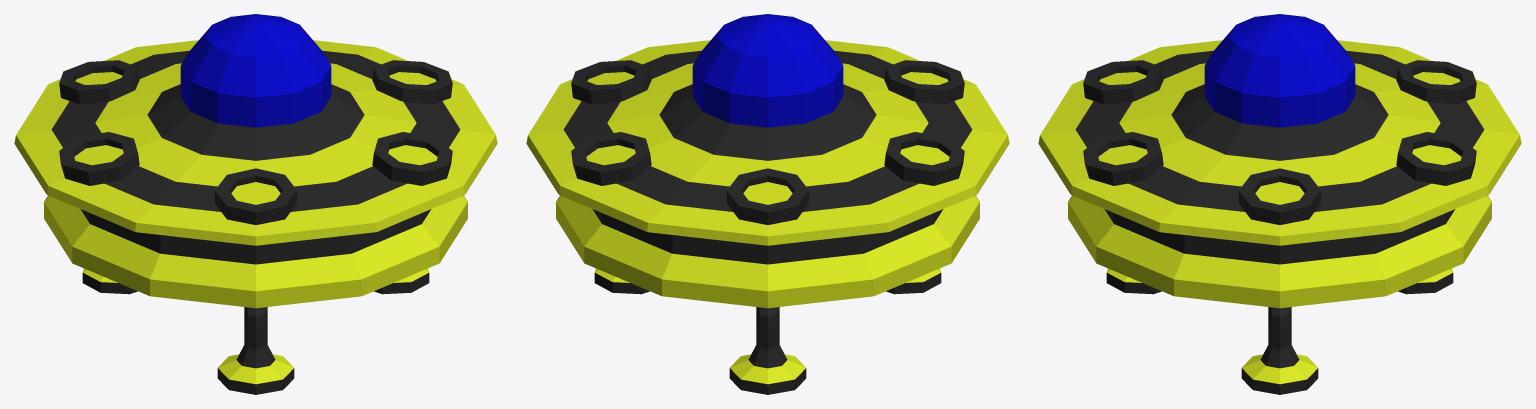
The model's file is UFO.dae.
The picture shows the model from 3 angles, left to right: view 1: azimuth 30°, elevation 25°; view 2: azimuth 150°, elevation 25°; view 3: azimuth 270°, elevation 25°; orthographic projection.
Parts seen in each view (by area): view 1: Body, Base, Cylinder; view 2: Body, Base, Cylinder; view 3: Body, Base, Cylinder.
Part boxes in pixels (bbox=[...]): Body: bbox=[14, 14, 497, 308]; Base: bbox=[59, 60, 452, 224]; Cylinder: bbox=[82, 268, 429, 394]; Body: bbox=[526, 14, 1009, 308]; Base: bbox=[571, 60, 964, 224]; Cylinder: bbox=[594, 268, 941, 394]; Body: bbox=[1038, 14, 1521, 308]; Base: bbox=[1083, 60, 1476, 224]; Cylinder: bbox=[1106, 268, 1453, 394].
Bounding box in the file's own units: 10.88 × 10.88 × 7.24.
